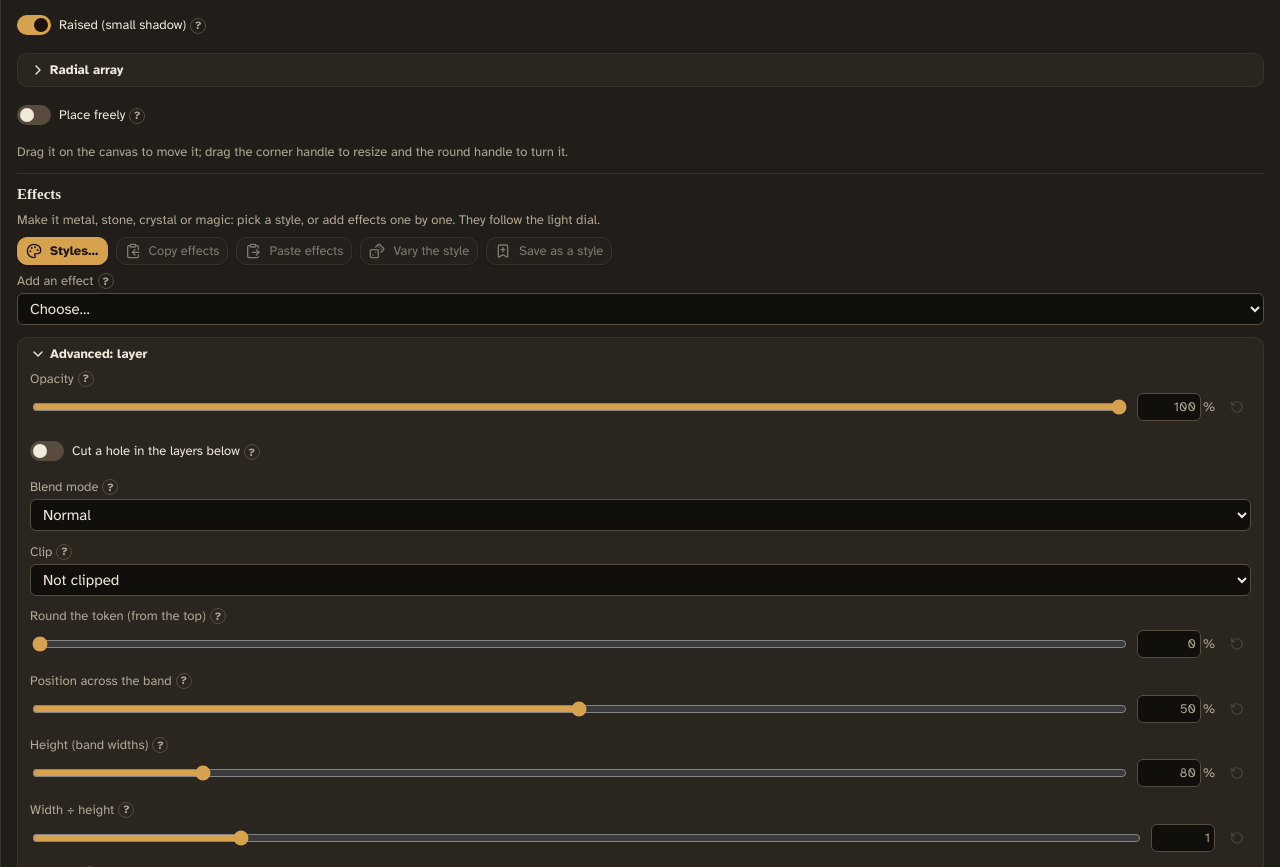
Test case: facets and the knockout › the knockout switch makes the layer cut a hole, and hides the blend mode
(page scrolled)
Expected: the dropdown labelled "Blend mode" is shown, [30, 499, 1251, 531]
Click the switch labelled "Cut a hole in the layers below" at (135, 451), box [30, 435, 240, 467]
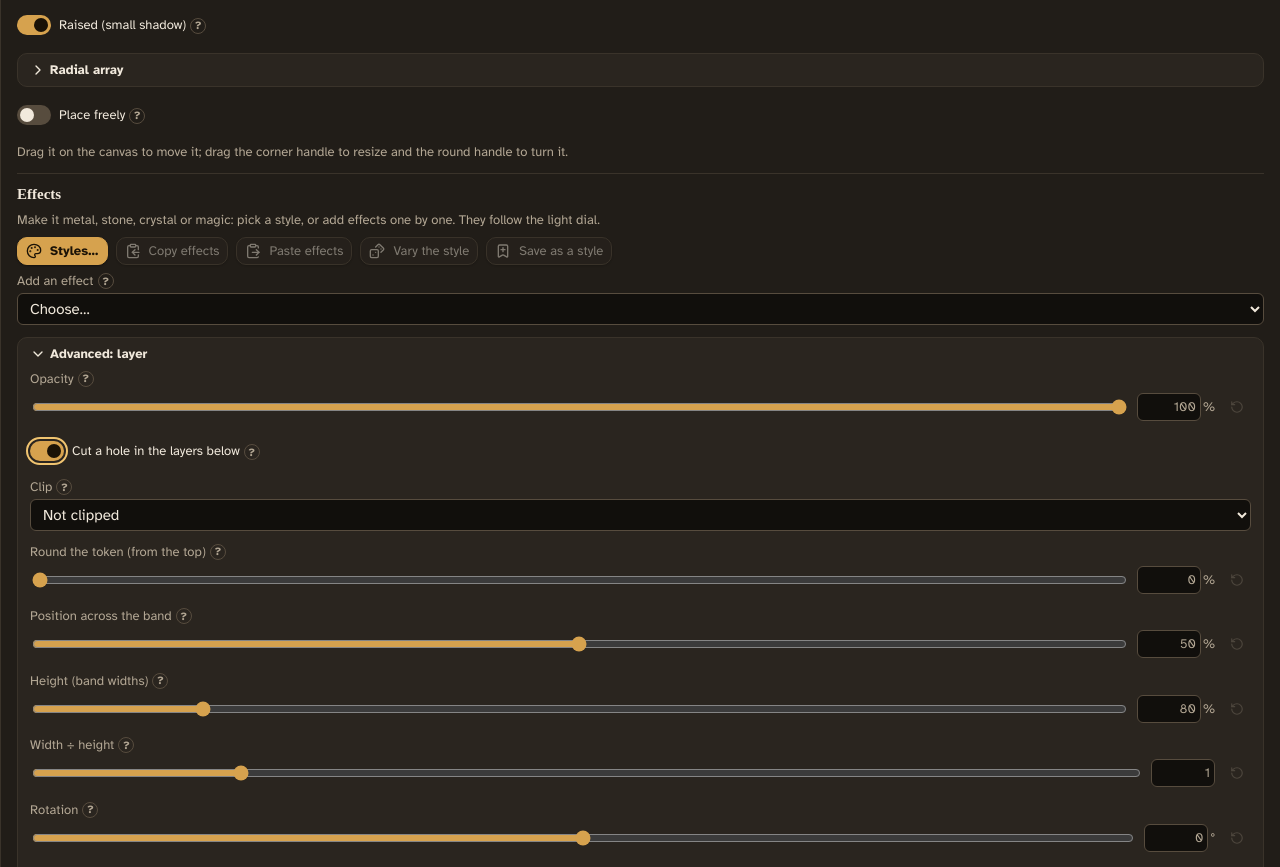
Now the label labelled "Blend mode" is gone
